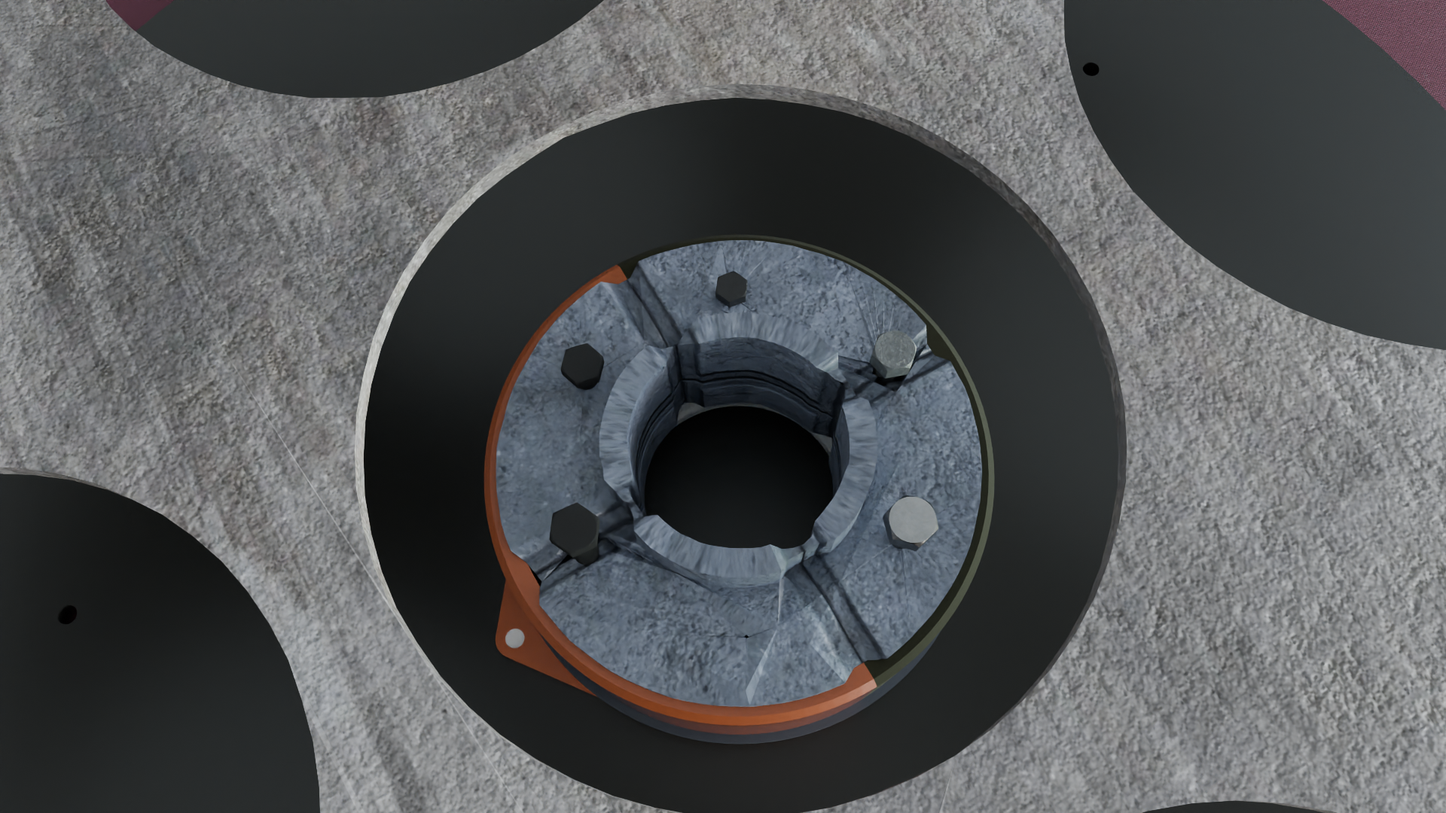bolt: (886, 495, 938, 547), (549, 503, 598, 554), (871, 330, 917, 372), (560, 343, 603, 383), (715, 271, 748, 303)
